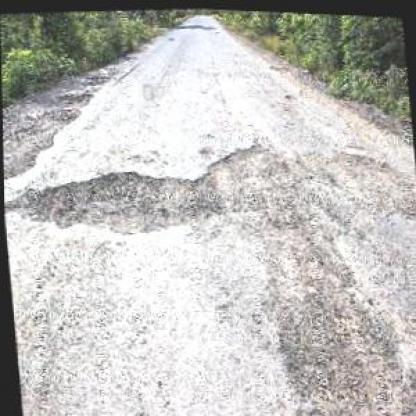pothole: (14, 159, 197, 240), (198, 136, 276, 223)
